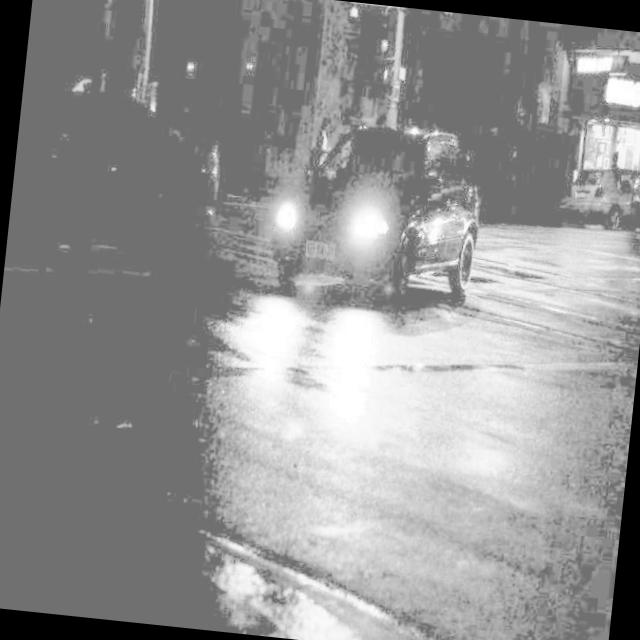Car: (263, 98, 510, 338), (567, 134, 640, 239), (609, 137, 640, 246)
